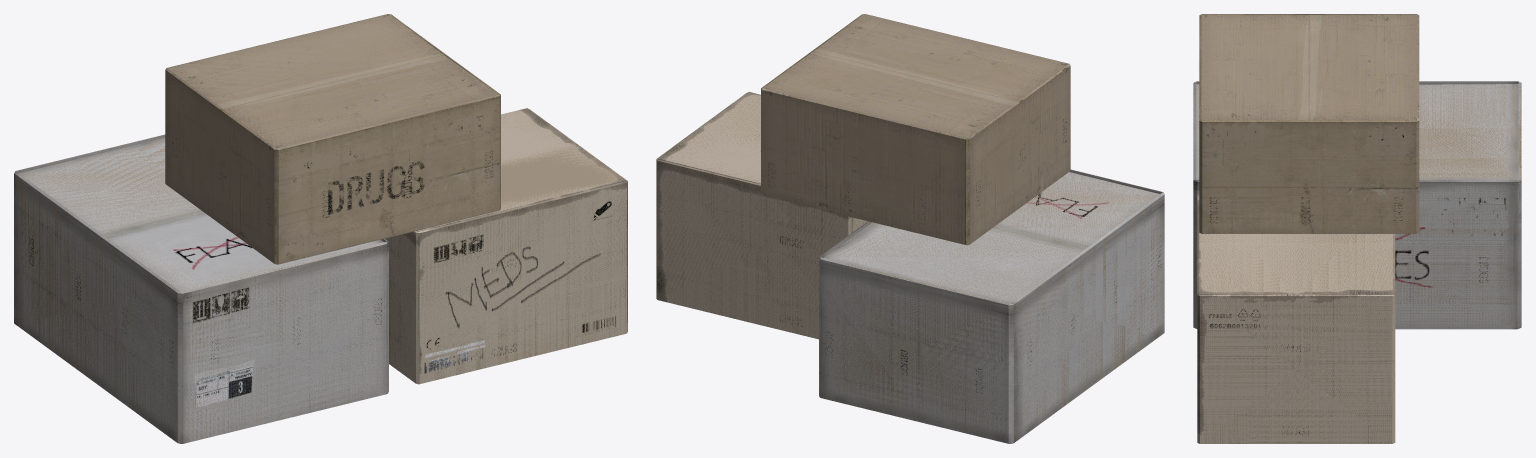
Rendered from Boxes.fbx.
3 renders of one model, left to right at view 1: azimuth 30°, elevation 25°; view 2: azimuth 150°, elevation 25°; view 3: azimuth 270°, elevation 25°, orthographic. The views are drawn at different scales.
Visible parts, largest first — view 1: Group5, Group15, Group10, Group13, Group14, Group4, Group3, Group8, Group9; view 2: Group5, Group15, Group10, Group4, Group14, Group13, Group3, Group9, Group8; view 3: Group10, Group15, Group5, Group14, Group13, Group4, Group8, Group9, Group3.
Boxes of the visible parts, x1,y1,x2,y2 form: Group5: (14,134,388,443); Group15: (165,14,500,264); Group10: (385,109,627,384); Group13: (167,14,443,108); Group14: (223,55,498,148); Group4: (19,137,200,233); Group3: (102,210,383,291); Group8: (417,145,626,231); Group9: (501,108,576,163); Group5: (819,169,1164,443); Group15: (761,14,1070,245); Group10: (656,93,867,339); Group4: (818,222,1082,303); Group14: (813,14,1068,101); Group13: (763,52,1017,138); Group3: (992,172,1159,250); Group9: (657,126,760,184); Group8: (703,92,760,139); Group10: (1197,195,1395,443); Group15: (1199,14,1419,233); Group5: (1193,81,1521,329); Group14: (1201,14,1309,120); Group13: (1309,14,1416,120); Group4: (1419,84,1519,186); Group8: (1199,233,1296,294); Group9: (1296,234,1392,294); Group3: (1196,84,1199,179).
Size of the model in its own units: 2.09 by 1.19 by 1.34.
